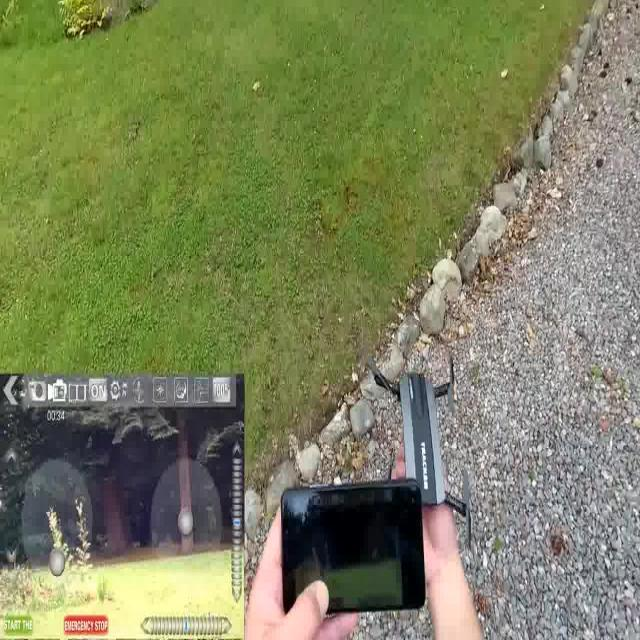drones: (364, 338, 478, 546)
